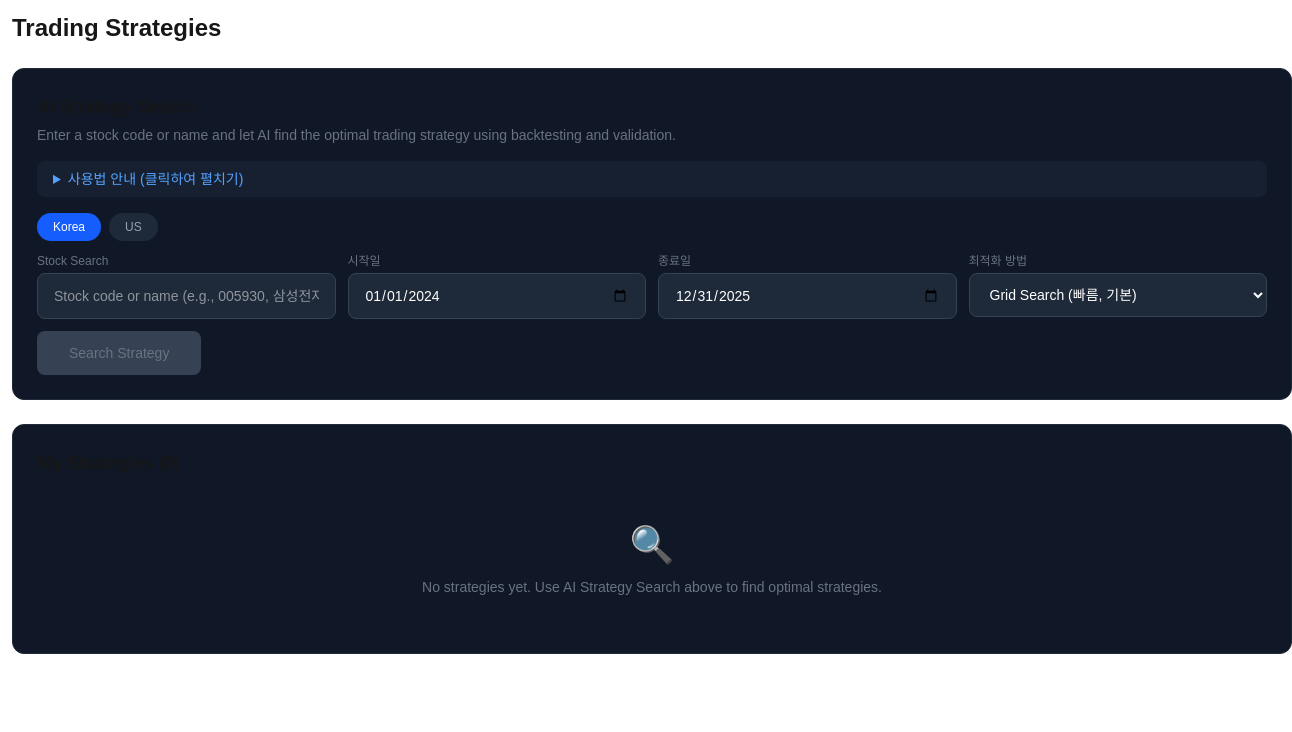
Test: StrategiesPage › submits search and shows progress bar during polling
The width and height of the screenshot is (1292, 732).
Type "005930" into the field with placeholder "Stock code or name (e.g., 005930, 삼성전자)" at (186, 296), box x1=37 y1=273 x2=336 y2=319
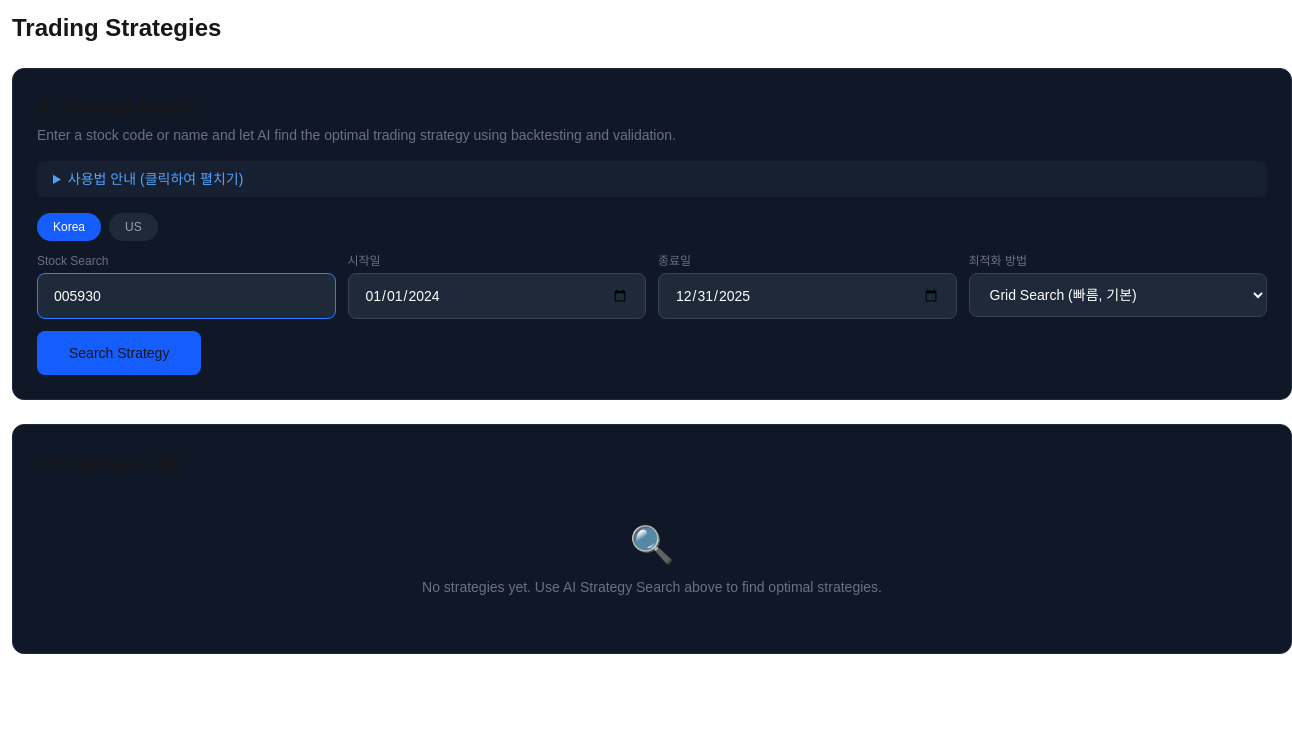
Click the button "Search Strategy" at (119, 353), box x1=37 y1=331 x2=201 y2=375
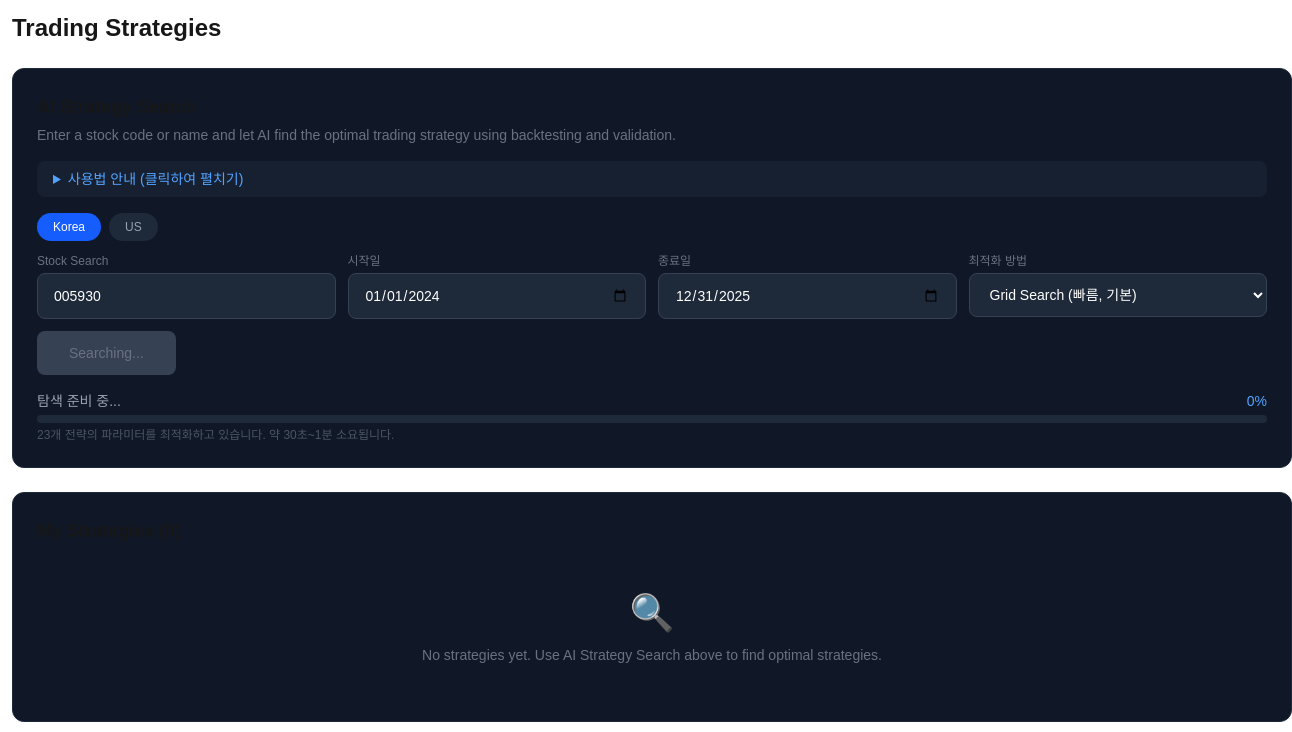
Now the text "0%" is shown, box x1=1247 y1=391 x2=1267 y2=411
